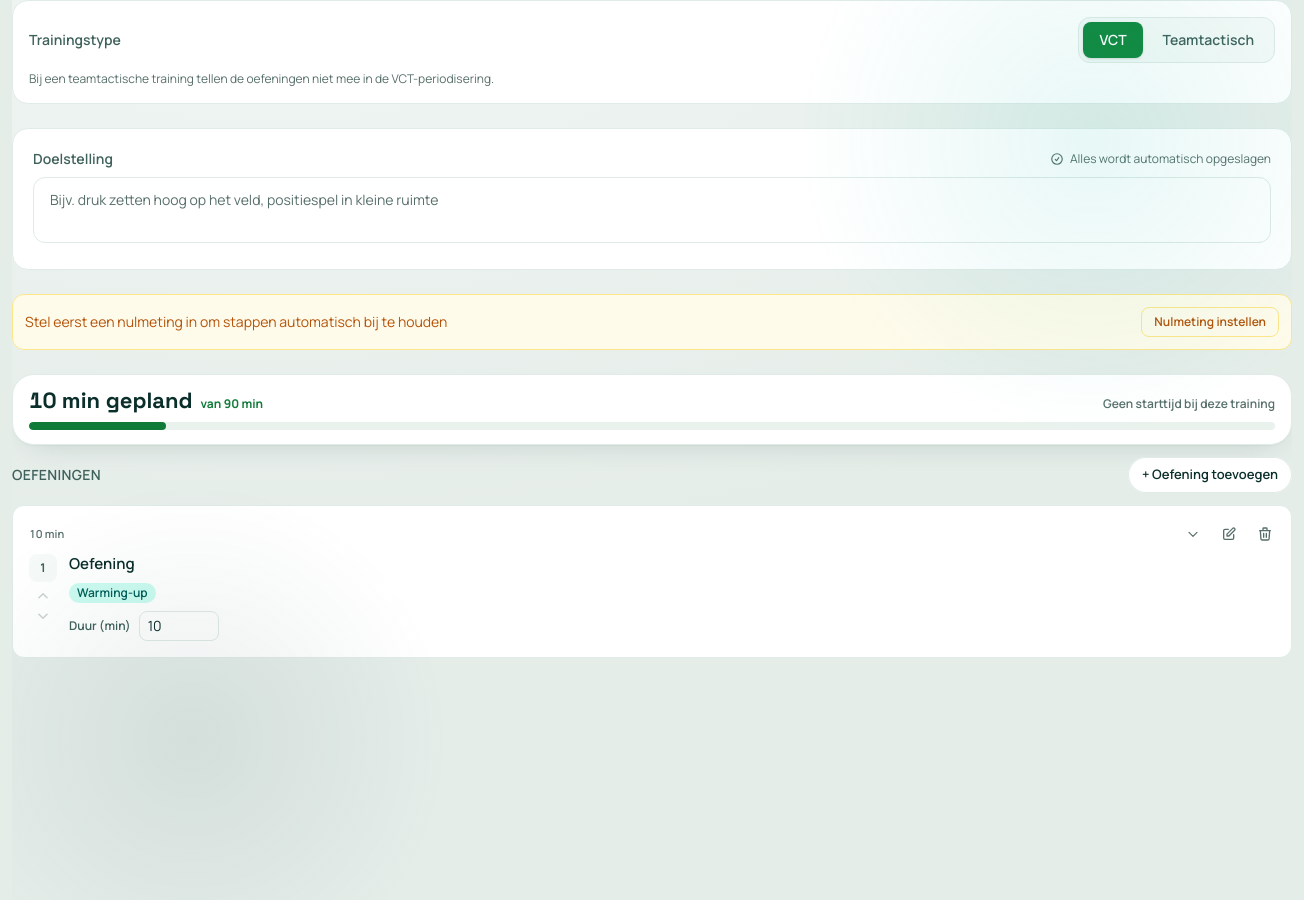
Test: Stap-inhoud direct op de kaart (heeftStapInhoud-categorieën) › warming_up: het stapveld staat nog steeds achter "Bewerken" — ongewijzigd gedrag, geen content-blok zichtbaar zonder die klik
Click the button named "Details": (1193, 534) [1177, 518, 1209, 550]
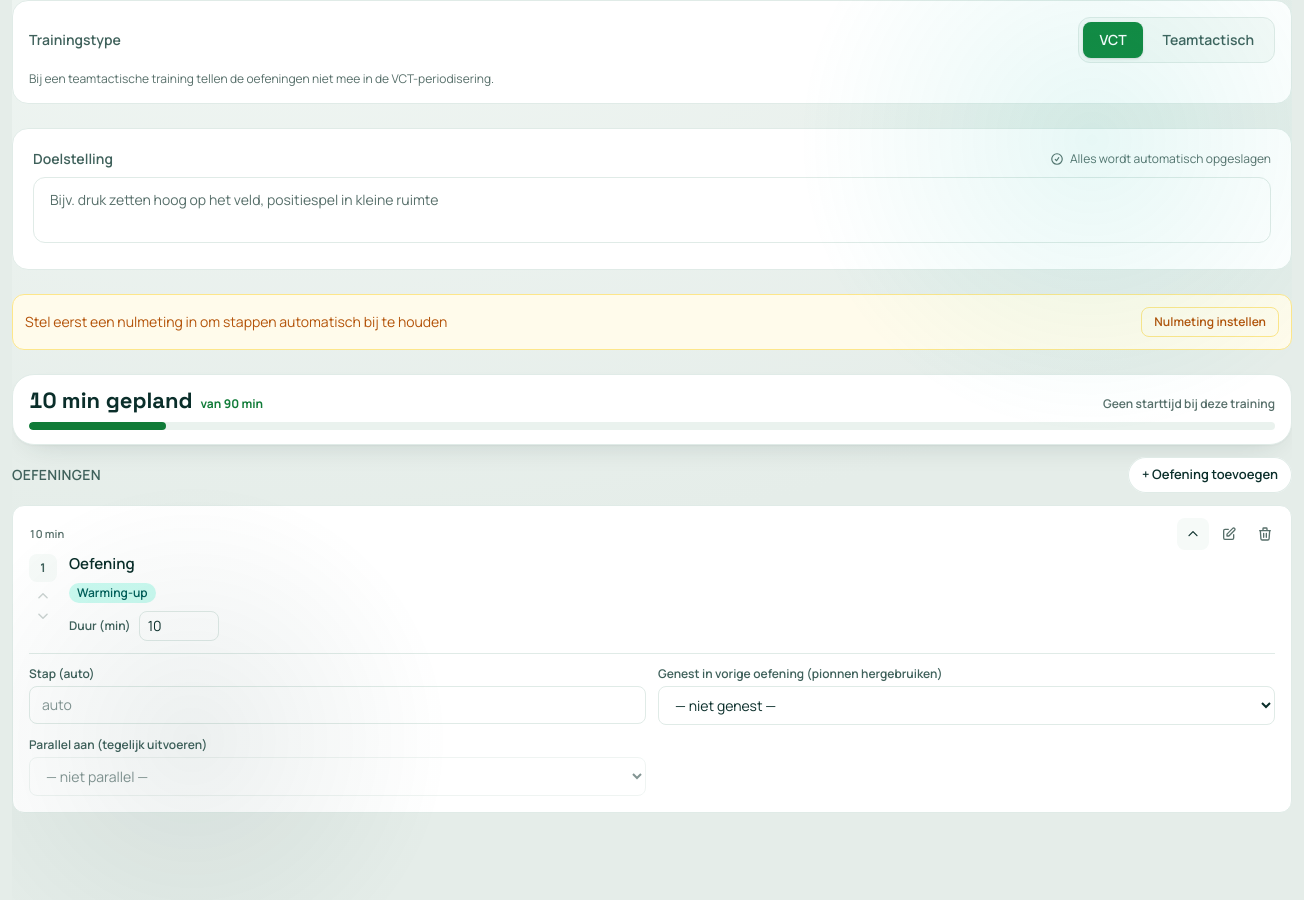
Result: the number field with id "stap-generic-k1" is shown at [29, 686, 646, 724]
